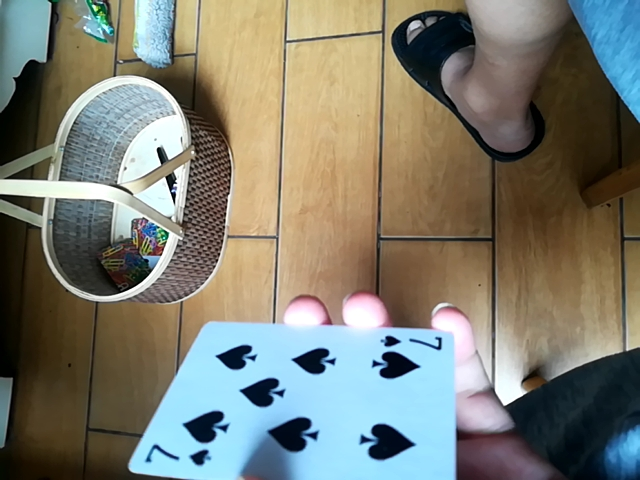ht 7: (131, 319, 463, 478)
